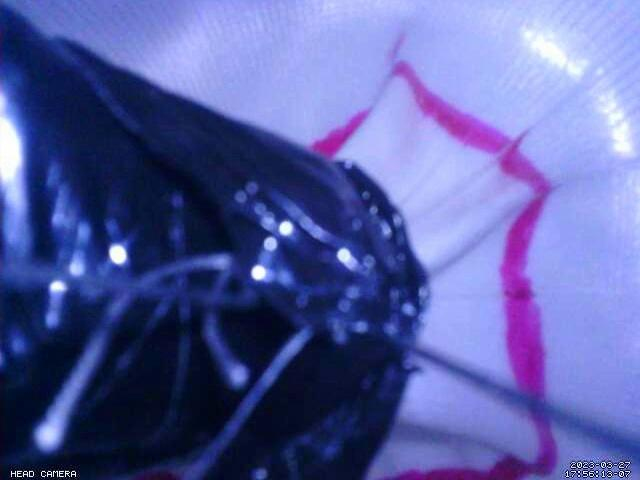red-circle: (308, 60, 559, 480)
